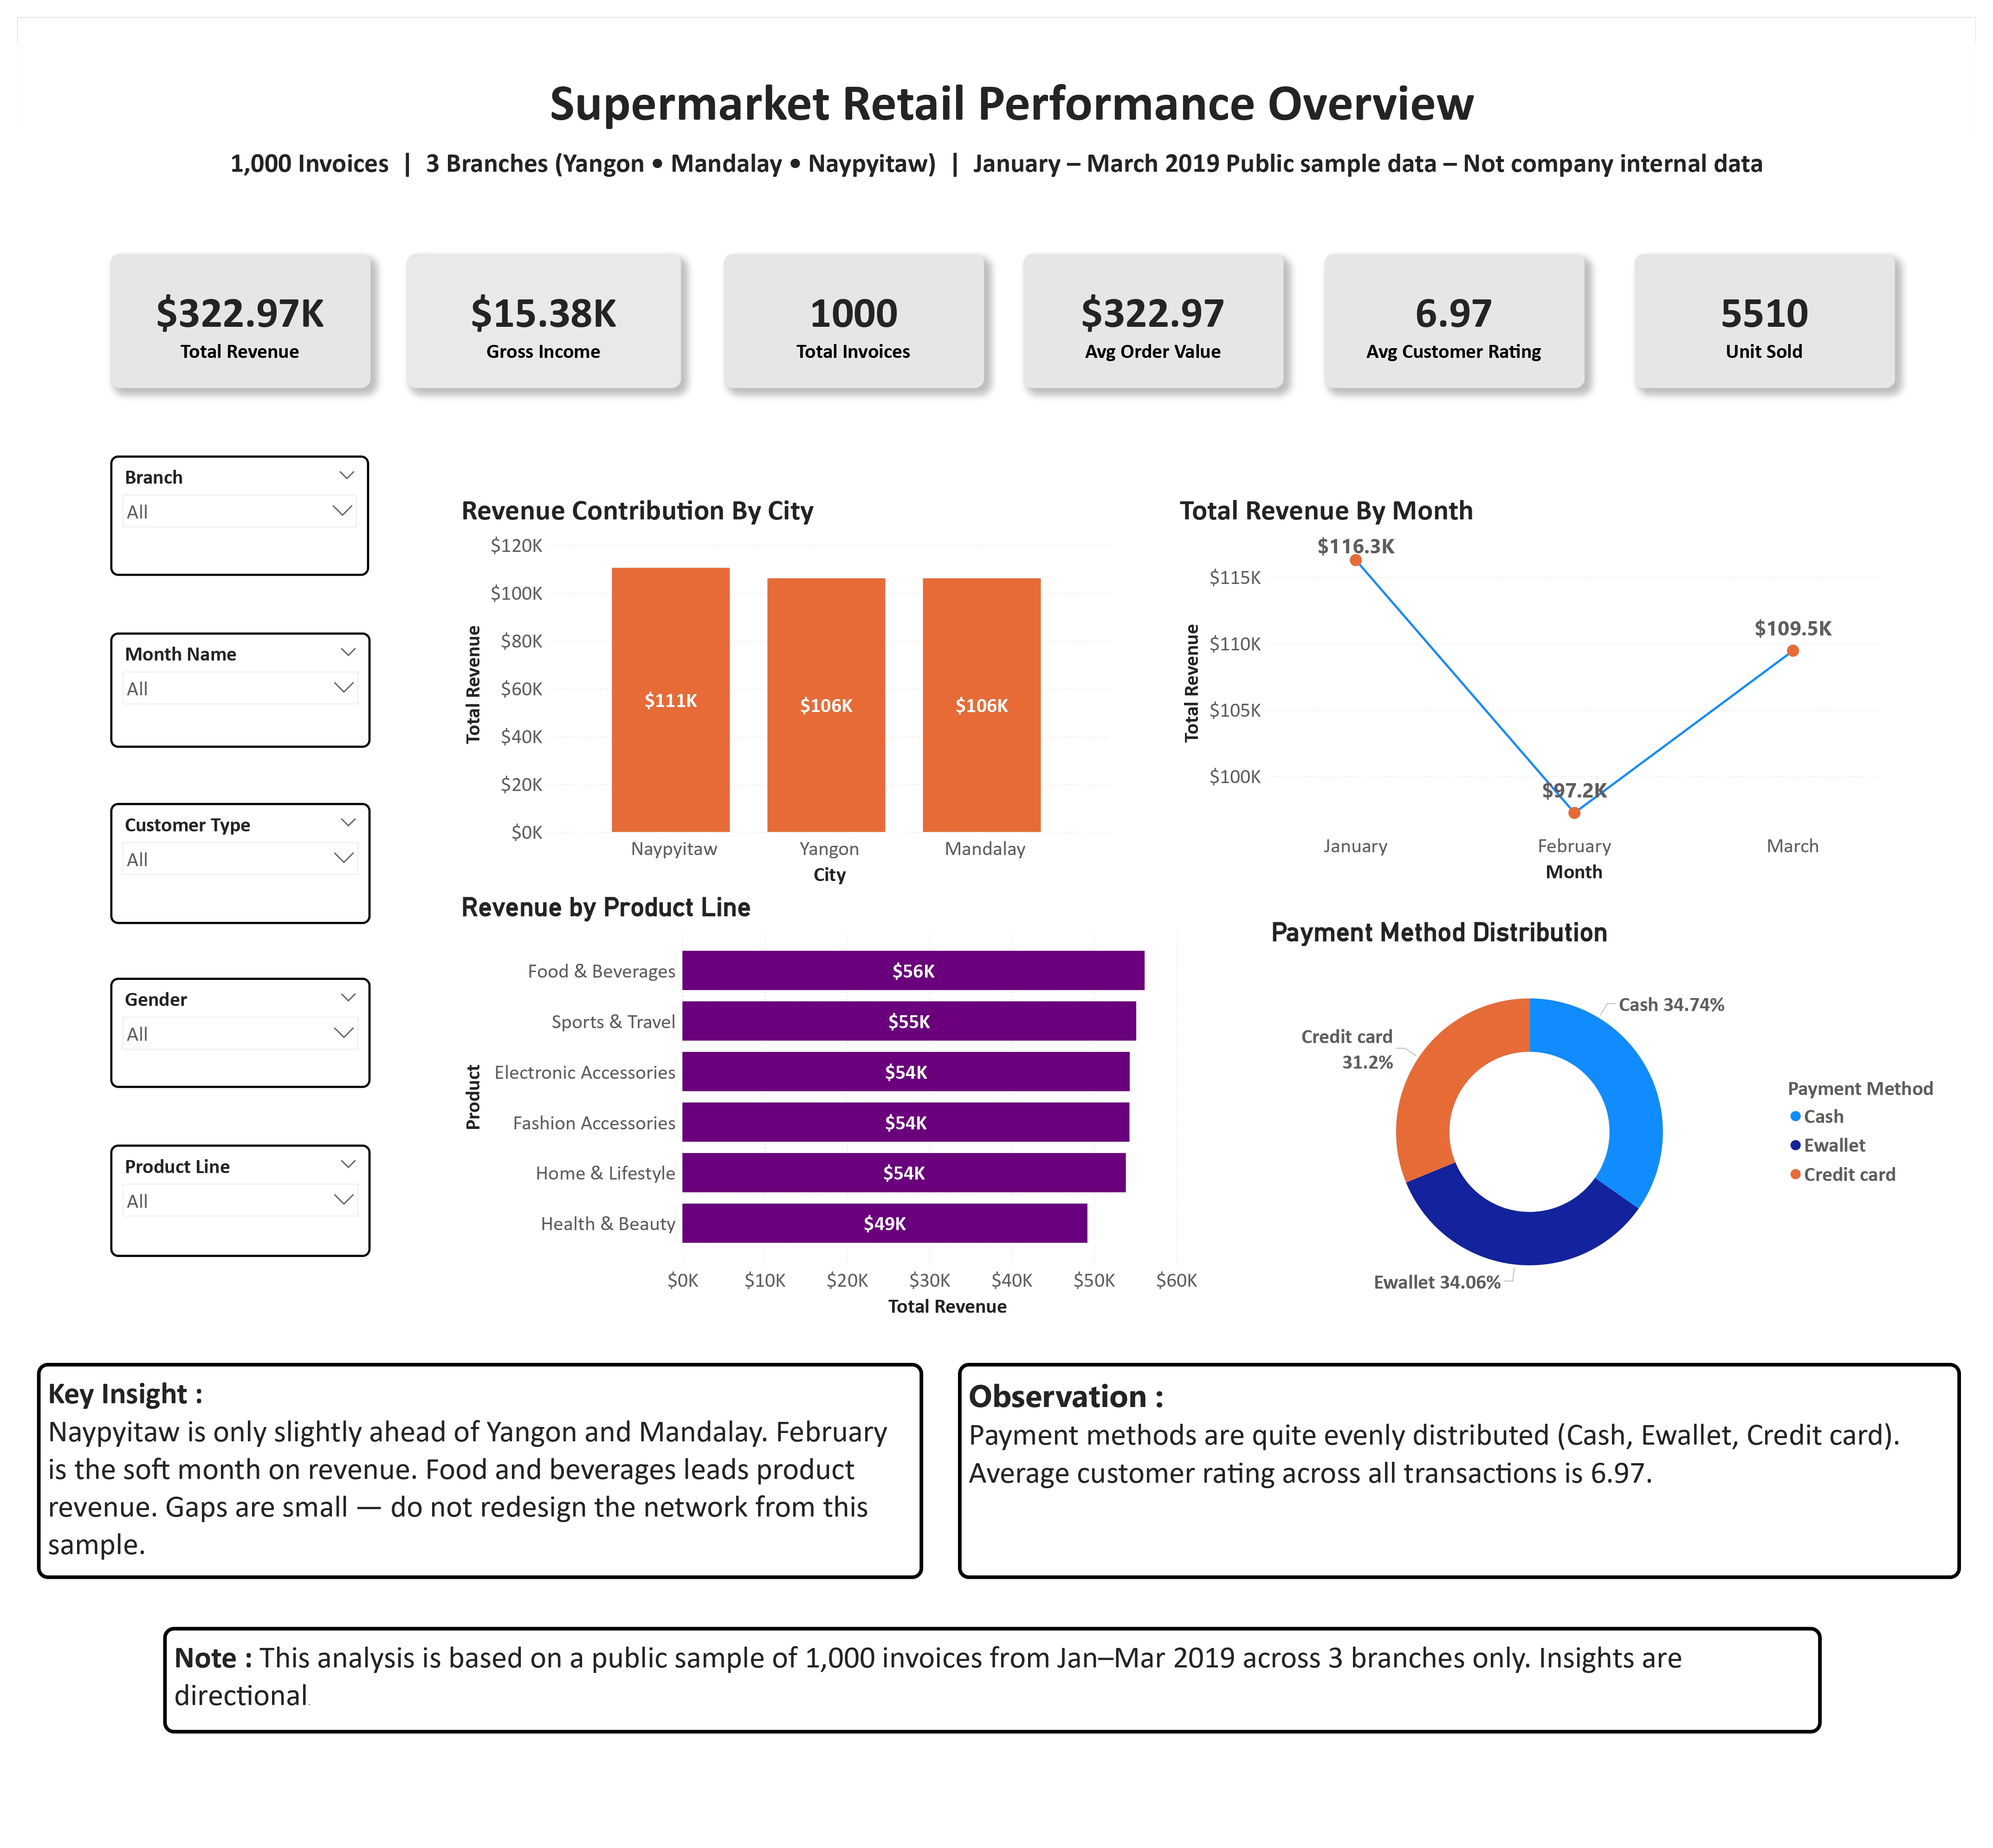

What the dashboard file says about the page in this screenshot:
{"tool":"powerbi","page":{"name":"Page 1","canvas":[2700,2500],"ordinal":0},"visuals":[{"type":"card","fields":{"Values":["super_market_retail.Total Revenue"]},"box":[128.3,326.1,358.7,184.8],"z":0},{"type":"card","title":"Gross Income","fields":{"Values":["super_market_retail.Total Gross Income"]},"box":[537,326.1,378.3,184.8],"z":1000},{"type":"card","fields":{"Values":["super_market_retail.Total Invoices"]},"box":[973.9,326.1,358.7,184.8],"z":2000},{"type":"card","fields":{"Values":["super_market_retail.Average Order Value"]},"box":[1387,326.1,358.7,184.8],"z":3000},{"type":"card","fields":{"Values":["super_market_retail.Average Rating"]},"box":[1802.2,326.1,358.7,184.8],"z":4000},{"type":"card","fields":{"Values":["super_market_retail.Total Quantity"]},"box":[2230.4,326.1,358.7,184.8],"z":5000},{"type":"slicer","fields":{"Values":["super_market_retail.branch"]},"box":[128.3,604.3,356.5,165.2],"z":6000},{"type":"slicer","fields":{"Values":["super_market_retail.Month Name"]},"box":[128.3,847.8,358.7,158.7],"z":7000},{"type":"slicer","fields":{"Values":["super_market_retail.customer_type"]},"box":[128.3,1082.6,358.7,167.4],"z":8000},{"type":"slicer","fields":{"Values":["super_market_retail.gender"]},"box":[128.3,1323.9,358.7,152.2],"z":9000},{"type":"slicer","fields":{"Values":["super_market_retail.product_line"]},"box":[128.3,1554.3,358.7,154.3],"z":10000},{"type":"clusteredColumnChart","title":"Revenue Contribution By City","fields":{"Category":["super_market_retail.city"],"Y":["super_market_retail.Total Revenue"]},"box":[606.5,654.3,904.3,550],"z":11000},{"type":"lineChart","title":"Total Revenue By Month","fields":{"Category":["super_market_retail.date.Variation.Date Hierarchy.Month","super_market_retail.date.Variation.Date Hierarchy.Day"],"Y":["super_market_retail.Total Revenue"]},"box":[1597.8,654.3,976.1,545.7],"z":12000},{"type":"clusteredBarChart","title":"Revenue by Product Line","fields":{"Category":["super_market_retail.product_line"],"Y":["super_market_retail.Total Revenue"]},"box":[607.4,1204.6,1075.9,594.6],"z":13000},{"type":"donutChart","title":"Payment Method Distribution","fields":{"Category":["super_market_retail.payment_method"],"Y":["super_market_retail.Total Revenue"]},"box":[1723.9,1239.1,956.5,554.3],"z":14000},{"type":"textbox","box":[110.9,67.4,2478.3,200],"z":15000},{"type":"textbox","box":[27.1,1855,1222.3,298.2],"z":16000},{"type":"textbox","box":[1296.9,1855,1382.8,298.2],"z":17000},{"type":"textbox","box":[201.1,2218.7,2286.5,146.9],"z":18000}]}

Visuals, with their boxes in screenshot pixels (x1, y1, x2, y2), scaled from the page's 2700x2500 canvas onto the 1993x1848 screenshot:
card - super_market_retail.Total Revenue: Rect(95, 241, 360, 378)
"Gross Income" card: Rect(396, 241, 676, 378)
card - super_market_retail.Total Invoices: Rect(719, 241, 984, 378)
card - super_market_retail.Average Order Value: Rect(1024, 241, 1288, 378)
card - super_market_retail.Average Rating: Rect(1330, 241, 1595, 378)
card - super_market_retail.Total Quantity: Rect(1646, 241, 1911, 378)
slicer - super_market_retail.branch: Rect(95, 447, 358, 569)
slicer - super_market_retail.Month Name: Rect(95, 627, 360, 744)
slicer - super_market_retail.customer_type: Rect(95, 800, 360, 924)
slicer - super_market_retail.gender: Rect(95, 979, 360, 1091)
slicer - super_market_retail.product_line: Rect(95, 1149, 360, 1263)
"Revenue Contribution By City" clusteredColumnChart: Rect(448, 484, 1115, 890)
"Total Revenue By Month" lineChart: Rect(1179, 484, 1900, 887)
"Revenue by Product Line" clusteredBarChart: Rect(448, 890, 1242, 1330)
"Payment Method Distribution" donutChart: Rect(1273, 916, 1979, 1326)
textbox: Rect(82, 50, 1911, 198)
textbox: Rect(20, 1371, 922, 1592)
textbox: Rect(958, 1371, 1978, 1592)
textbox: Rect(149, 1640, 1836, 1749)
